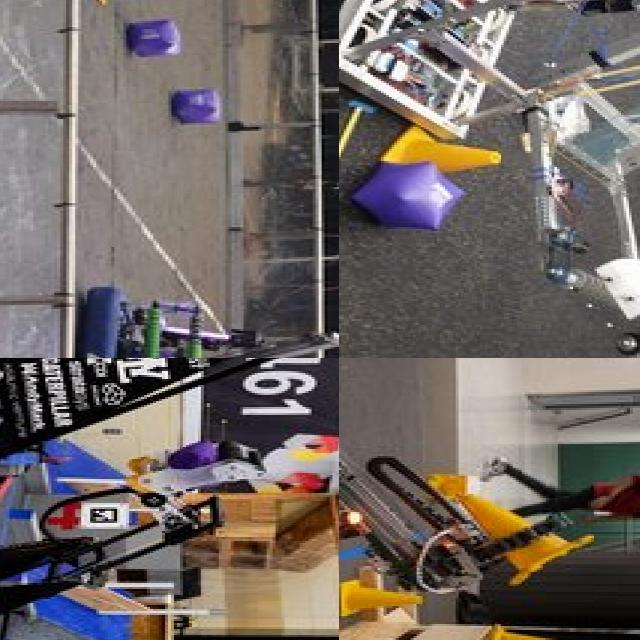FRC-Robots: (339, 0, 640, 358), (339, 385, 599, 635), (0, 358, 339, 524), (0, 520, 180, 640), (60, 283, 339, 358)
